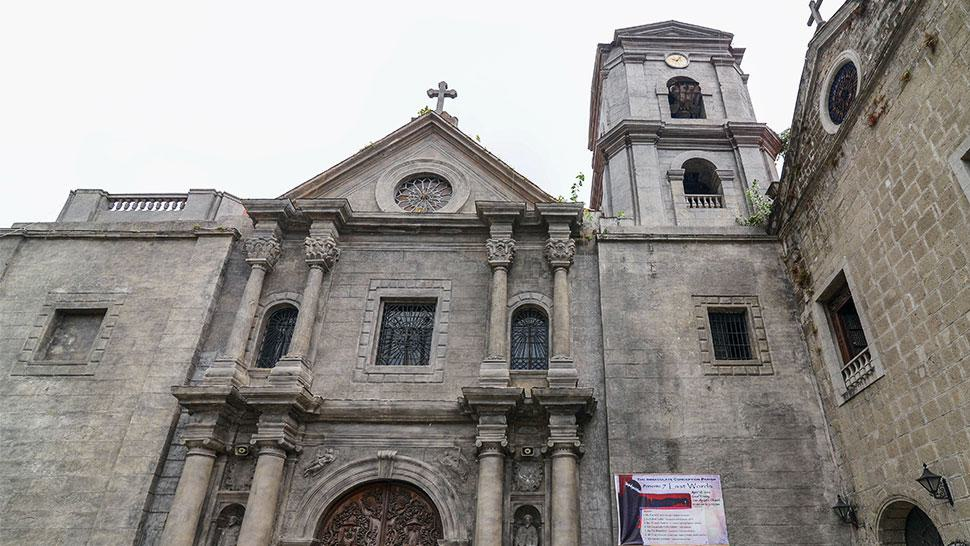san_agustin_church_intramuros_manila: (200, 11, 837, 546)
